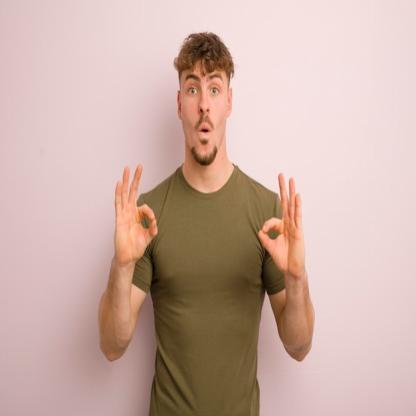ok: (255, 165, 310, 275), (113, 160, 159, 270)
